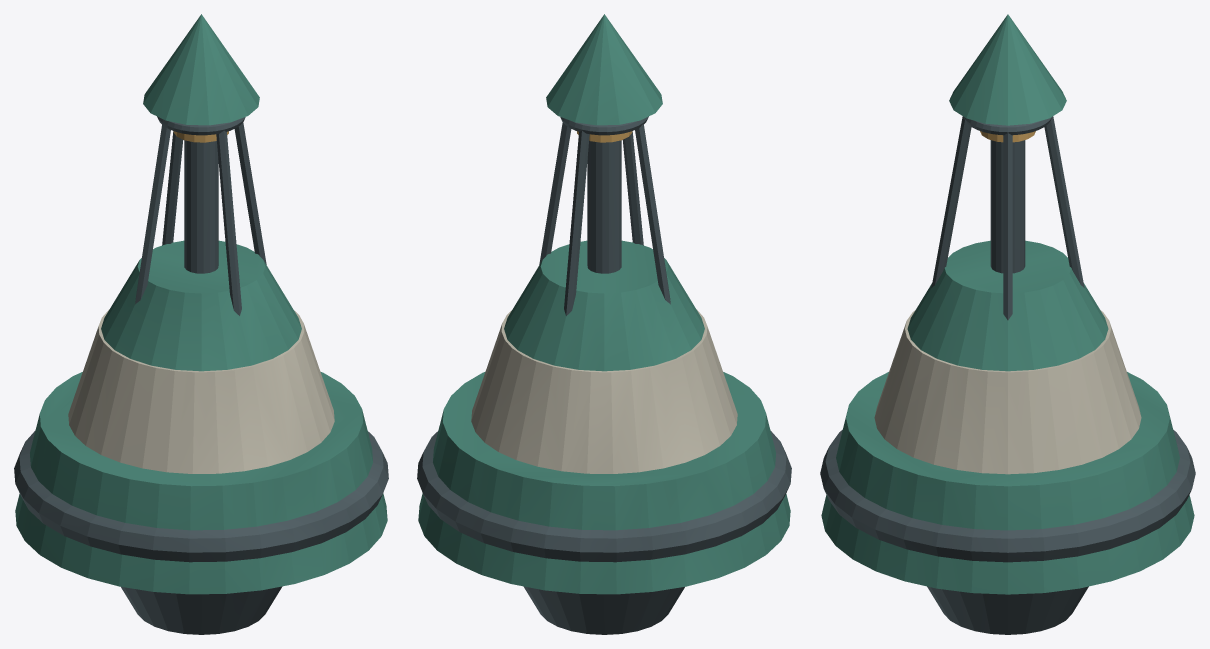
File: float-cone-buoy.glb
3 renders of one model, left to right at view 1: azimuth 30°, elevation 25°; view 2: azimuth 150°, elevation 25°; view 3: azimuth 270°, elevation 25°, orthographic.
Parts seen in each view (by area): view 1: float-cone-buoy; view 2: float-cone-buoy; view 3: float-cone-buoy.
Boxes of the visible parts, bbox=[...] form: float-cone-buoy: bbox=[14, 14, 388, 634]; float-cone-buoy: bbox=[417, 14, 791, 634]; float-cone-buoy: bbox=[820, 14, 1195, 634].
Bounding box in the file's own units: 1.53 × 2.66 × 1.53.
